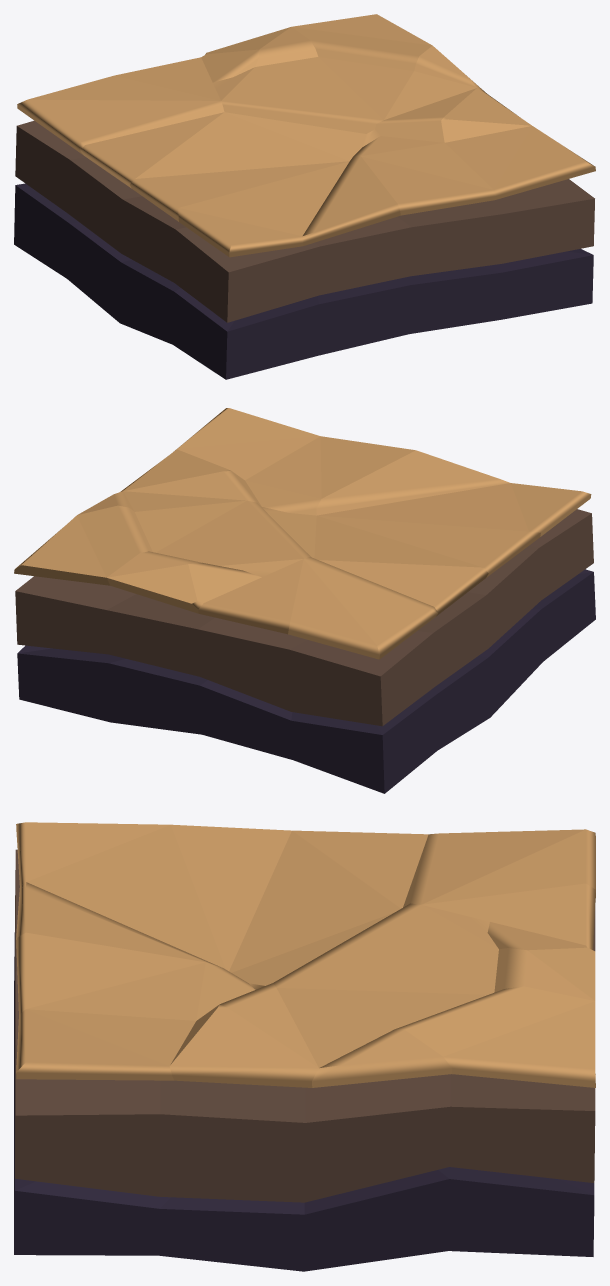
File: ground_02.glb
3 views of the same model, one above another, from view 1: azimuth 30°, elevation 25°; view 2: azimuth 150°, elevation 25°; view 3: azimuth 270°, elevation 25° (orthographic). The views are drawn at different scales.
Parts seen in each view (by area): view 1: Plane.005; view 2: Plane.005; view 3: Plane.005.
Part boxes in pixels (x1,y1,x2,y2): Plane.005: [14, 14, 595, 379]; Plane.005: [14, 408, 595, 793]; Plane.005: [14, 822, 595, 1271].
Bounding box in the file's own units: 40.36 × 17.08 × 40.13.
Materials: 1 (1 with a texture image).
